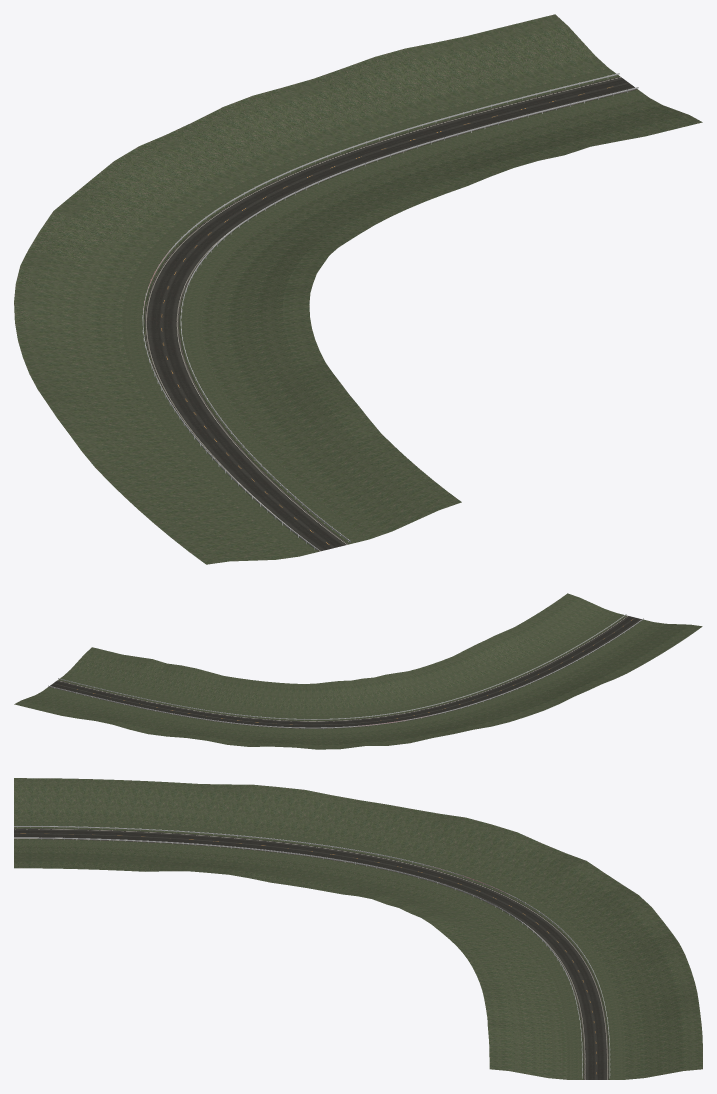
3 renders of one model, top to bottom at view 1: azimuth 30°, elevation 25°; view 2: azimuth 150°, elevation 25°; view 3: azimuth 270°, elevation 25°, orthographic. The views are drawn at different scales.
Parts seen in each view (by area): view 1: Grass, HighWay, GuardRail; view 2: Grass, HighWay, GuardRail; view 3: Grass, HighWay, GuardRail.
Part boxes in pixels (x1,y1,x2,y2): Grass: [14, 14, 702, 564]; HighWay: [143, 76, 637, 551]; GuardRail: [142, 73, 638, 550]; Grass: [14, 593, 702, 749]; HighWay: [49, 615, 643, 728]; GuardRail: [48, 614, 643, 728]; Grass: [14, 778, 702, 1079]; HighWay: [14, 828, 609, 1079]; GuardRail: [14, 826, 610, 1078].
Size of what is drawn, in the model's own units: 355 by 7.78 by 355.
